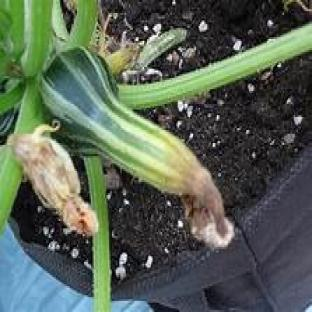Zucchini: (41, 49, 233, 246)
